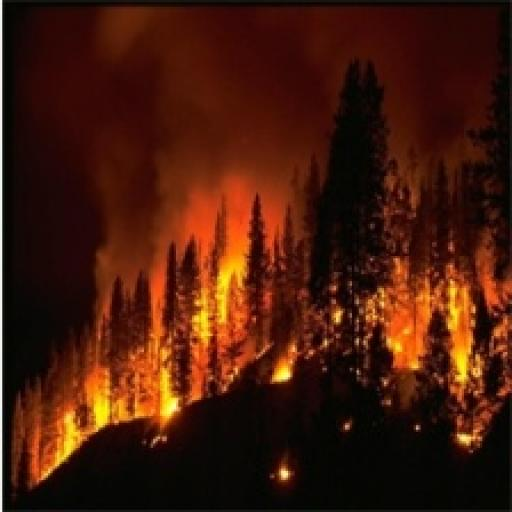fire and smoke: (2, 5, 496, 405), (2, 2, 496, 377), (87, 263, 178, 427), (192, 181, 249, 400), (446, 247, 510, 395), (384, 263, 432, 368), (222, 338, 297, 386)
